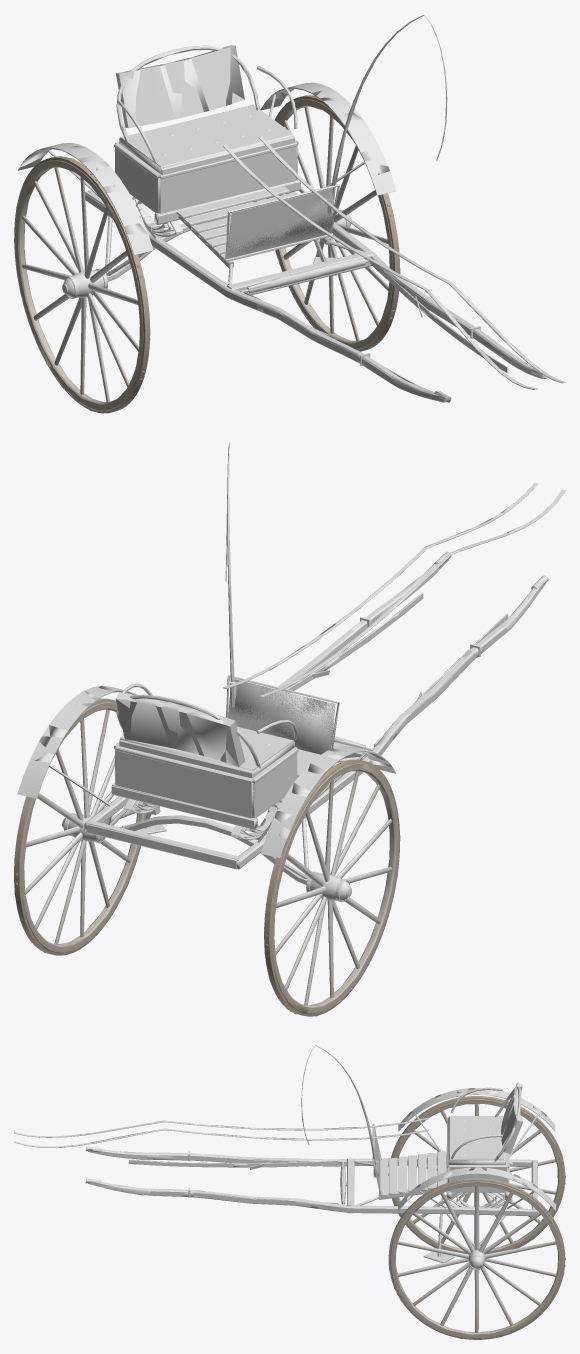
File: sulky.glb
The picture shows the model from 3 angles, top to bottom: view 1: azimuth 30°, elevation 25°; view 2: azimuth 150°, elevation 25°; view 3: azimuth 270°, elevation 25°; orthographic projection. The views are drawn at different scales.
Visible parts, largest first — view 1: Body_Mesh, Body_LOD, Wheel.R_Mesh, Wheel.R_LOD, Wheel.L_Mesh, Wheel.L_LOD; view 2: Body_Mesh, Body_LOD, Wheel.R_Mesh, Wheel.L_Mesh, Wheel.R_LOD, Wheel.L_LOD; view 3: Body_Mesh, Wheel.L_Mesh, Body_LOD, Wheel.L_LOD, Wheel.R_Mesh, Wheel.R_LOD.
Boxes of the visible parts, x1,y1,x2,y2 form: Body_Mesh: [18, 14, 565, 402]; Body_LOD: [19, 22, 560, 402]; Wheel.R_Mesh: [14, 156, 150, 413]; Wheel.R_LOD: [14, 156, 150, 413]; Wheel.L_Mesh: [267, 95, 400, 351]; Wheel.L_LOD: [276, 95, 399, 351]; Body_Mesh: [17, 442, 565, 884]; Body_LOD: [35, 444, 564, 884]; Wheel.R_Mesh: [264, 759, 400, 1016]; Wheel.L_Mesh: [14, 698, 145, 955]; Wheel.R_LOD: [264, 759, 400, 1016]; Wheel.L_LOD: [14, 699, 146, 955]; Body_Mesh: [14, 1045, 555, 1262]; Wheel.L_Mesh: [388, 1178, 565, 1339]; Body_LOD: [17, 1050, 553, 1258]; Wheel.L_LOD: [388, 1178, 565, 1339]; Wheel.R_Mesh: [391, 1096, 565, 1252]; Wheel.R_LOD: [388, 1096, 565, 1254].
Size of the model in its own units: 1.78 by 2.49 by 4.38.
